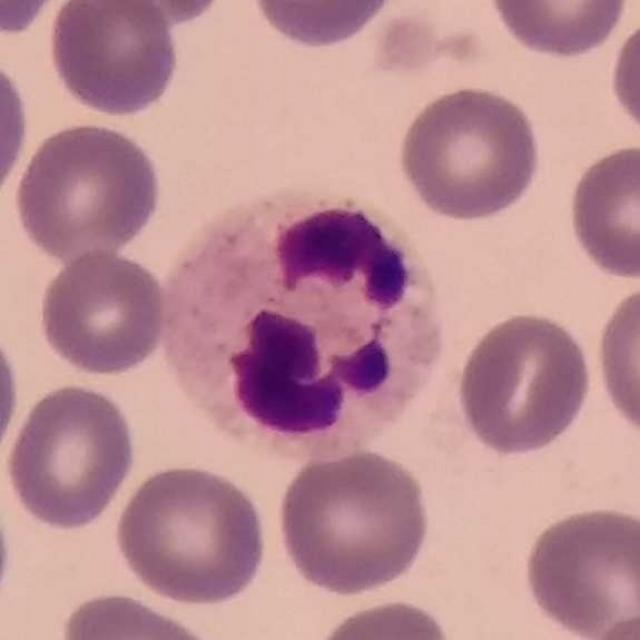Neutrophil: (147, 182, 455, 462)
RBC: (273, 445, 435, 599), (111, 460, 272, 608), (10, 118, 165, 264), (393, 81, 545, 225), (453, 307, 595, 460), (2, 380, 139, 532), (35, 246, 172, 378), (518, 501, 640, 640), (44, 0, 182, 119), (563, 140, 640, 283), (484, 0, 635, 61), (55, 587, 228, 640), (245, 0, 401, 52), (592, 277, 640, 446), (307, 595, 461, 640), (0, 50, 32, 211), (606, 8, 640, 147), (78, 0, 233, 30), (0, 319, 22, 477), (0, 0, 73, 39), (576, 606, 640, 640)
